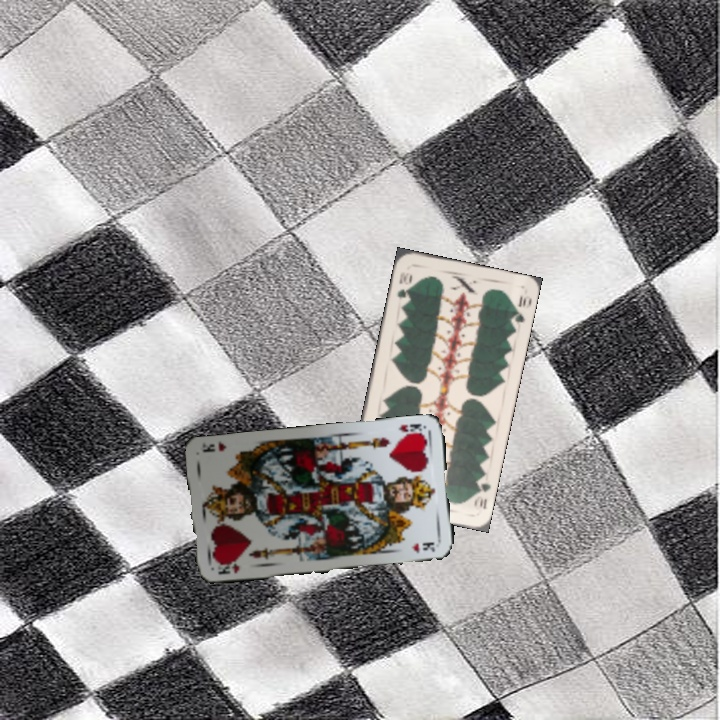G10: (470, 473, 493, 512), (393, 268, 415, 302)
HK: (395, 419, 428, 439), (211, 557, 242, 577)
